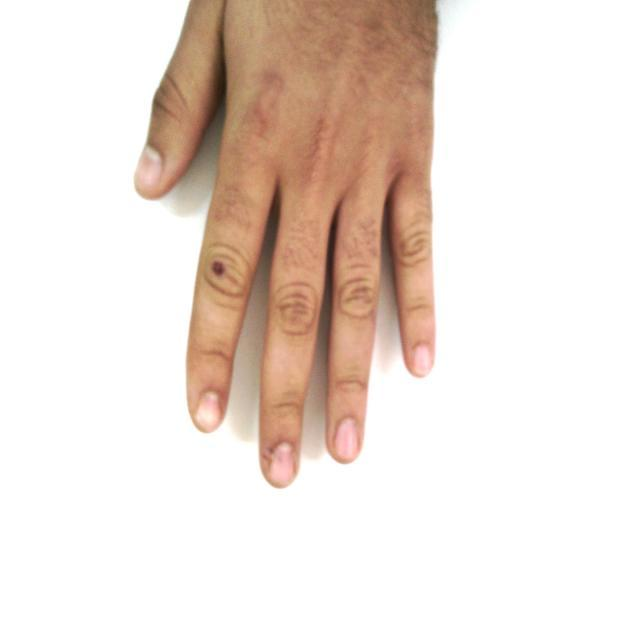Fingernail: (138, 147, 163, 186), (270, 444, 294, 484), (335, 419, 358, 459), (197, 393, 220, 429), (414, 344, 431, 374)
